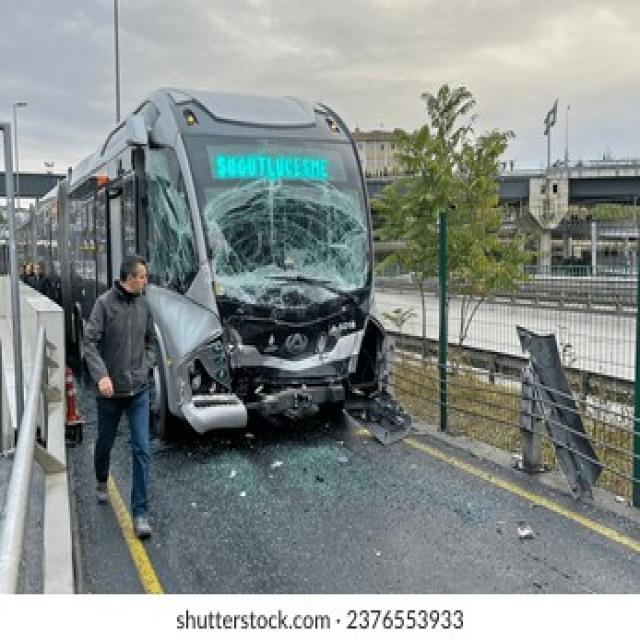Accident: (1, 90, 416, 455)
